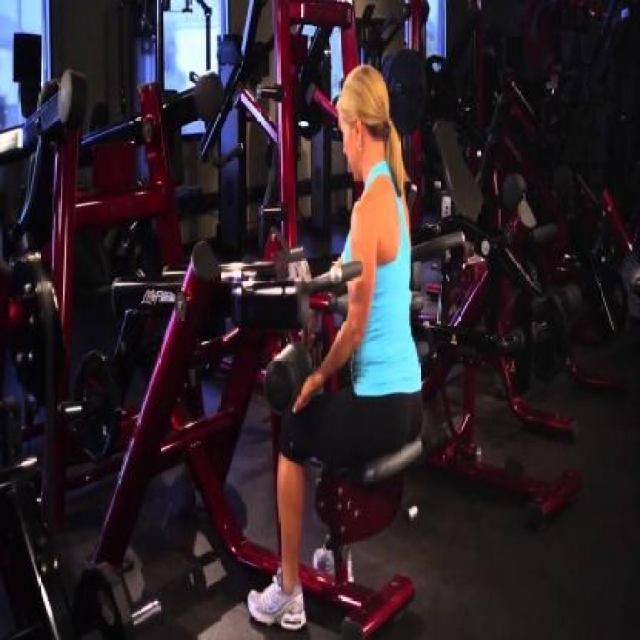seated dip machine: (115, 234, 471, 640)
